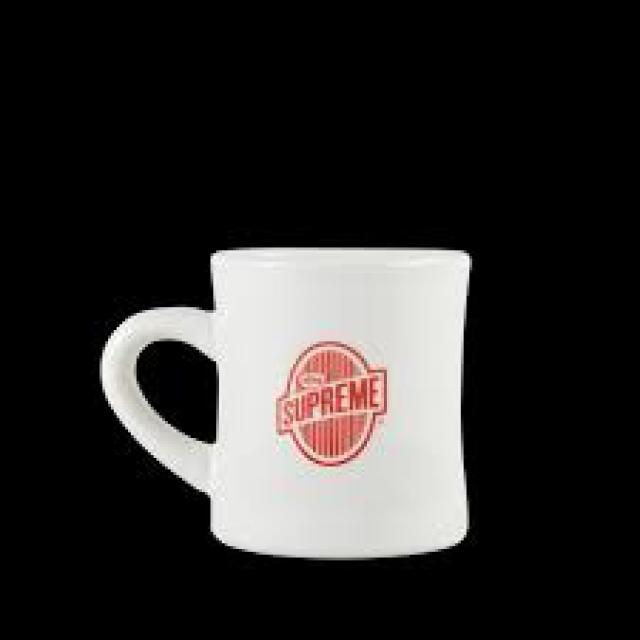taza: (100, 247, 473, 559)
